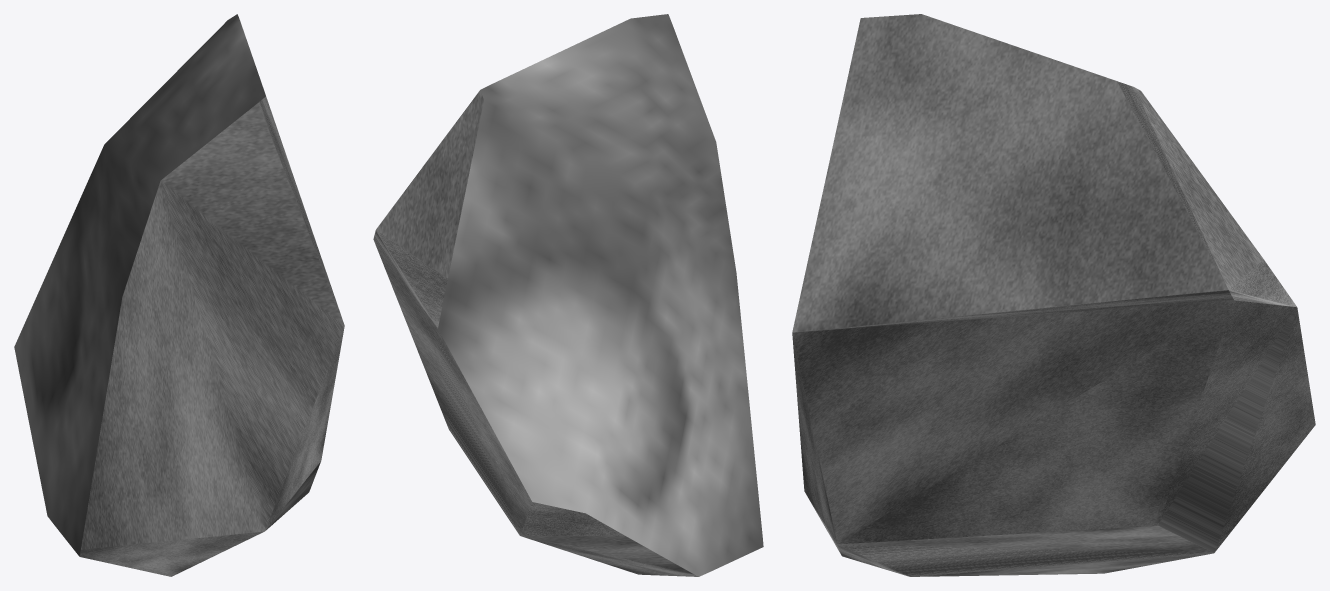
File: body_cell_057.fbx
3 views of the same model, side by side, from view 1: azimuth 30°, elevation 25°; view 2: azimuth 150°, elevation 25°; view 3: azimuth 270°, elevation 25° (orthographic). The views are drawn at different scales.
Parts seen in each view (by area): view 1: body_cell.057; view 2: body_cell.057; view 3: body_cell.057.
Part boxes in pixels (x1=…): body_cell.057: x1=14, y1=14, x2=344, y2=576; body_cell.057: x1=373, y1=14, x2=763, y2=576; body_cell.057: x1=792, y1=14, x2=1315, y2=576.
Size of the model in its own units: 21.32 by 34.67 by 26.61.
